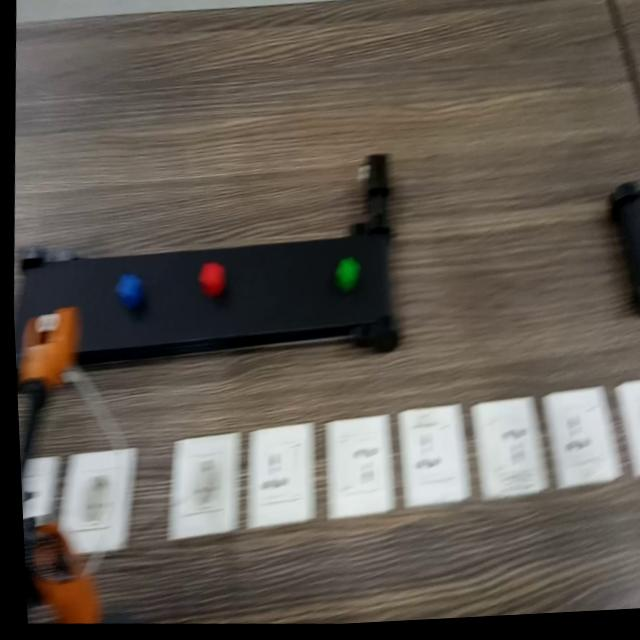cube: (109, 269, 146, 314), (330, 252, 365, 298), (195, 259, 228, 301)
